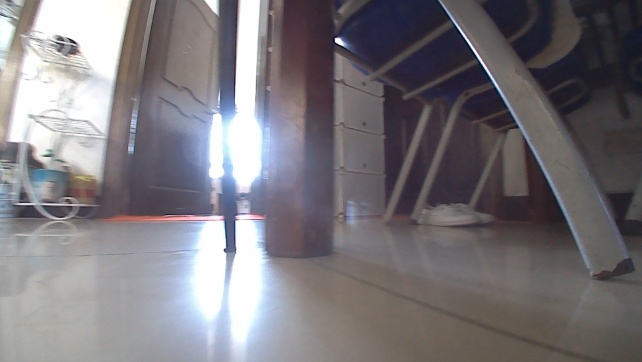blanket: (95, 210, 267, 226)
dining_table: (97, 0, 225, 222)
dining_table1: (261, 0, 641, 283)
shoe: (417, 200, 482, 227)
